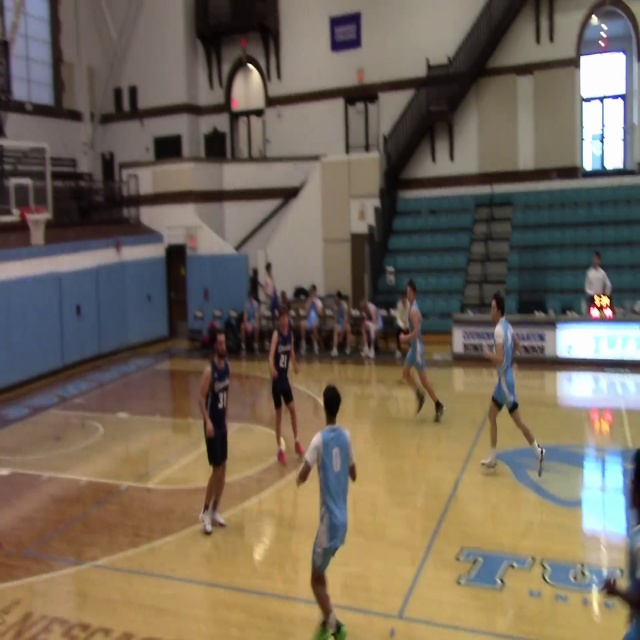Basketball: (399, 332, 411, 347)
